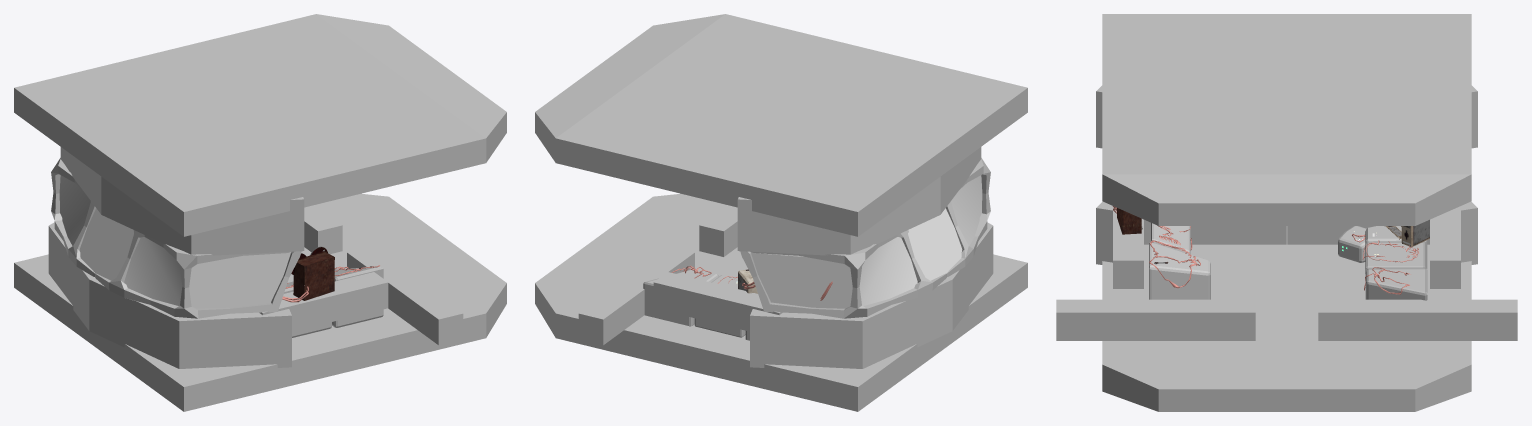
Rendered from Cockpit.fbx.
The picture shows the model from 3 angles, left to right: view 1: azimuth 30°, elevation 25°; view 2: azimuth 150°, elevation 25°; view 3: azimuth 270°, elevation 25°; orthographic projection. The views are drawn at different scales.
Parts seen in each view (by area): view 1: Roof_low, Floor_low, DashBottom_low, DashRoof_low, Strip2_low, Window_low, Window3.001, Window2.001, Strip2_low.001, Window1.001, Decoder.001, Console-MediumLeft_low.002; view 2: Roof_low, Floor_low, DashBottom_low, DashRoof_low, Strip2_low, Window_low, Window3.001, Window2.001, Strip2_low.001, Window1.001, Console-MediumRight_low.001, Console-Medium_low.001; view 3: Roof_low, Floor_low, Strip2_low, Strip2_low.001, Console-MediumLeft_low.002, Strip1_low.001, DashBottom_low, Console-MediumRight_low.001, Console-Medium_low.001, Console-Large_low.001, Console-Small_low.001, DashRoof_low (+3 smaller).
Part boxes in pixels (x1,y1,x2,y2): Roof_low: [14, 14, 506, 236]; Floor_low: [14, 193, 506, 411]; DashBottom_low: [48, 222, 291, 368]; DashRoof_low: [60, 147, 304, 255]; Strip2_low: [304, 205, 463, 345]; Window_low: [51, 158, 301, 318]; Window3.001: [189, 252, 291, 308]; Window2.001: [59, 175, 182, 305]; Strip2_low.001: [259, 272, 388, 331]; Window1.001: [79, 208, 133, 280]; Decoder.001: [291, 246, 334, 300]; Console-MediumLeft_low.002: [332, 265, 383, 327]; Roof_low: [535, 14, 1027, 236]; Floor_low: [535, 193, 1027, 411]; DashBottom_low: [750, 222, 993, 368]; DashRoof_low: [737, 147, 981, 255]; Strip2_low: [578, 205, 737, 345]; Window_low: [740, 158, 990, 318]; Window3.001: [750, 252, 852, 308]; Window2.001: [859, 175, 982, 305]; Strip2_low.001: [653, 272, 782, 331]; Window1.001: [908, 208, 962, 280]; Console-MediumRight_low.001: [643, 265, 718, 326]; Console-Medium_low.001: [694, 275, 745, 337]; Roof_low: [1102, 14, 1471, 225]; Floor_low: [1102, 226, 1471, 411]; Strip2_low: [1056, 299, 1517, 340]; Strip2_low.001: [1113, 206, 1460, 288]; Console-MediumLeft_low.002: [1149, 240, 1210, 299]; Strip1_low.001: [1144, 219, 1429, 244]; DashBottom_low: [1096, 201, 1477, 264]; Console-MediumRight_low.001: [1364, 267, 1427, 300]; Console-Medium_low.001: [1362, 240, 1425, 272]; Console-Large_low.001: [1151, 223, 1192, 254]; Console-Small_low.001: [1338, 226, 1366, 262]; DashRoof_low: [1096, 85, 1477, 148].
Bounding box in the file's own units: 1452 × 773 × 1489.
